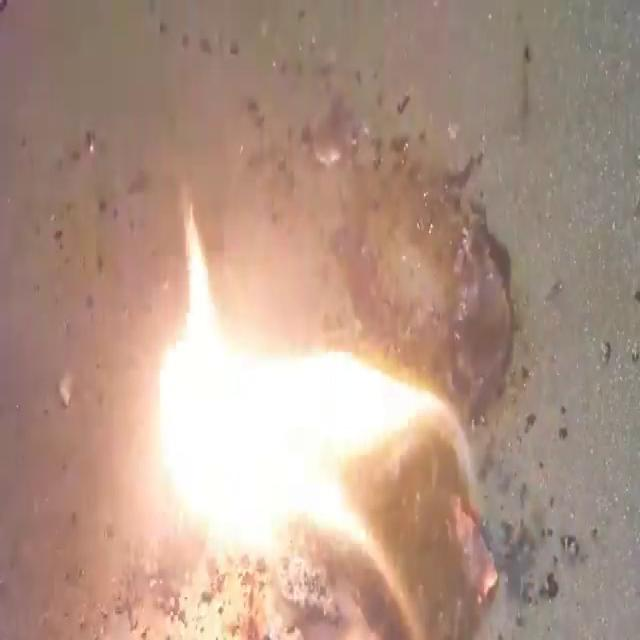Fire: (151, 196, 467, 564)
